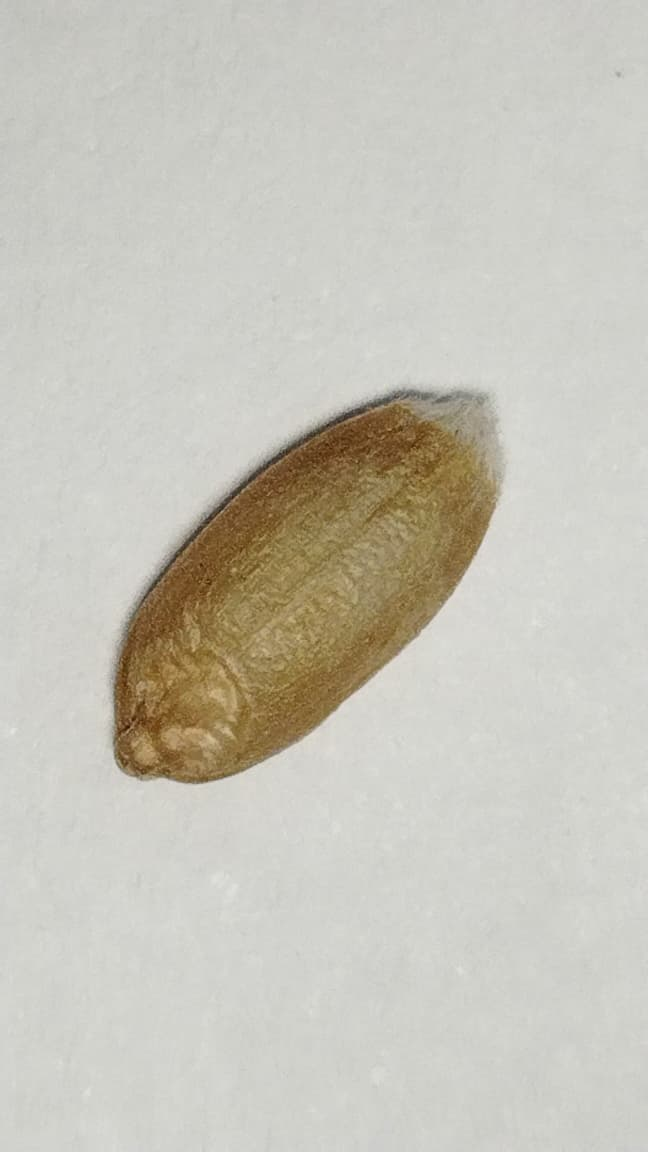healthy: (114, 389, 503, 781)
